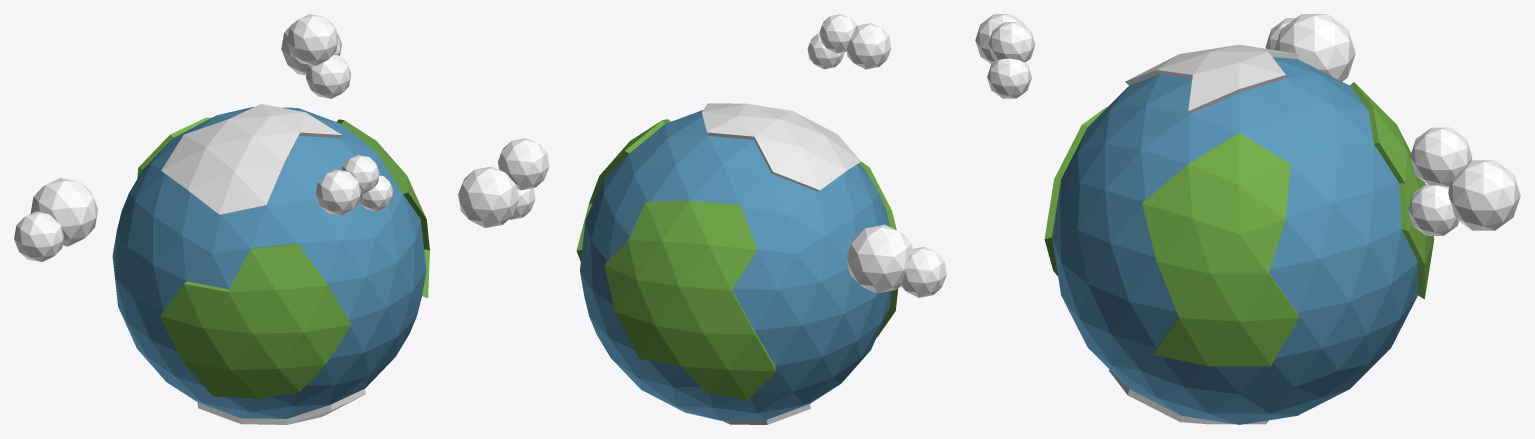
File: uploads_files_2011345_Earth.fbx
3 views of the same model, side by side, from view 1: azimuth 30°, elevation 25°; view 2: azimuth 150°, elevation 25°; view 3: azimuth 270°, elevation 25° (orthographic). The views are drawn at different scales.
Parts seen in each view (by area): view 1: a, Icosphere.001; view 2: a, Icosphere.001; view 3: a, Icosphere.001.
Part boxes in pixels (box(x1,y1,x2,y2)): a: box(112, 104, 429, 424); Icosphere.001: box(14, 14, 393, 261); a: box(576, 103, 898, 424); Icosphere.001: box(458, 14, 946, 297); a: box(1044, 44, 1434, 424); Icosphere.001: box(975, 14, 1520, 235).
Size of the model in its own units: 1008 by 789 by 1006.
